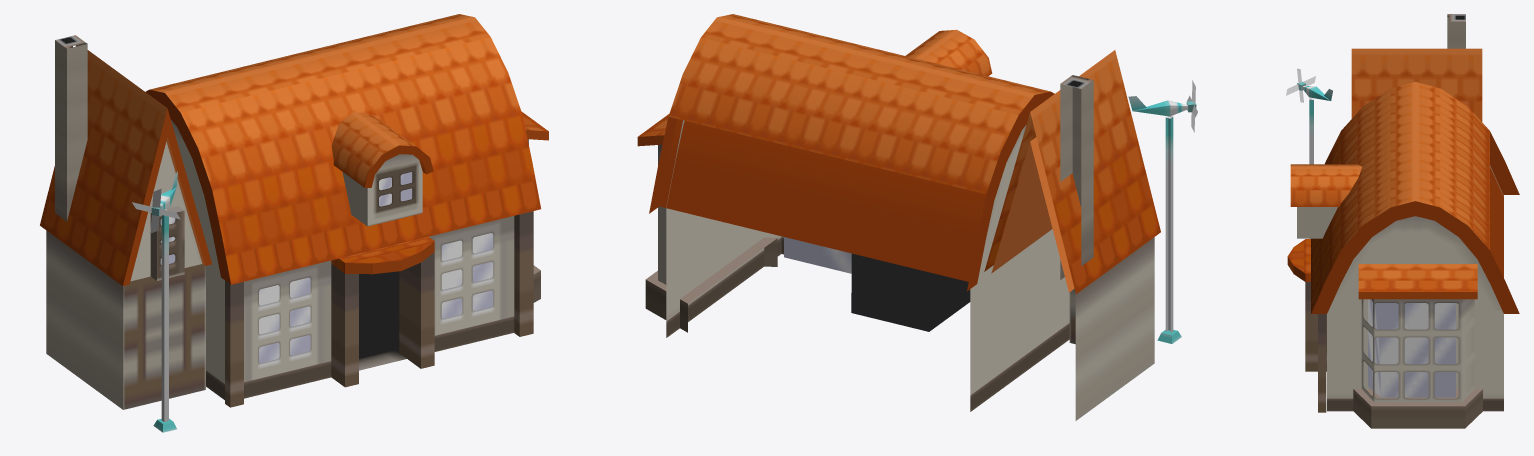
Rendered from house_0.obj.
3 renders of one model, left to right at view 1: azimuth 30°, elevation 25°; view 2: azimuth 150°, elevation 25°; view 3: azimuth 270°, elevation 25°, orthographic. The views are drawn at different scales.
Visible parts, largest first — view 1: polygon2, polygon1, polygon3, main, polygon5, polygon7; view 2: polygon2, polygon3, polygon1, polygon5, main, polygon6; view 3: polygon2, polygon3, main, polygon1, polygon5, polygon7, polygon6.
Part boxes in pixels (x1=…): polygon2: x1=40, y1=14, x2=548, y2=285; polygon1: x1=46, y1=154, x2=533, y2=409; polygon3: x1=55, y1=35, x2=540, y2=399; main: x1=160, y1=172, x2=493, y2=362; polygon5: x1=153, y1=209, x2=176, y2=432; polygon7: x1=132, y1=188, x2=180, y2=233; polygon2: x1=637, y1=14, x2=1160, y2=293; polygon3: x1=645, y1=75, x2=1093, y2=411; polygon1: x1=781, y1=236, x2=1154, y2=420; polygon5: x1=1157, y1=116, x2=1181, y2=343; main: x1=784, y1=237, x2=851, y2=273; polygon6: x1=1128, y1=96, x2=1187, y2=116; polygon2: x1=1287, y1=48, x2=1519, y2=313; polygon3: x1=1327, y1=14, x2=1503, y2=428; main: x1=1368, y1=299, x2=1455, y2=397; polygon1: x1=1297, y1=207, x2=1337, y2=412; polygon5: x1=1309, y1=98, x2=1313, y2=238; polygon7: x1=1286, y1=68, x2=1315, y2=102; polygon6: x1=1302, y1=85, x2=1332, y2=100.
Bounding box in the file's own units: 1.71 × 1.12 × 1.16.
Materials: 1 (1 with a texture image).
